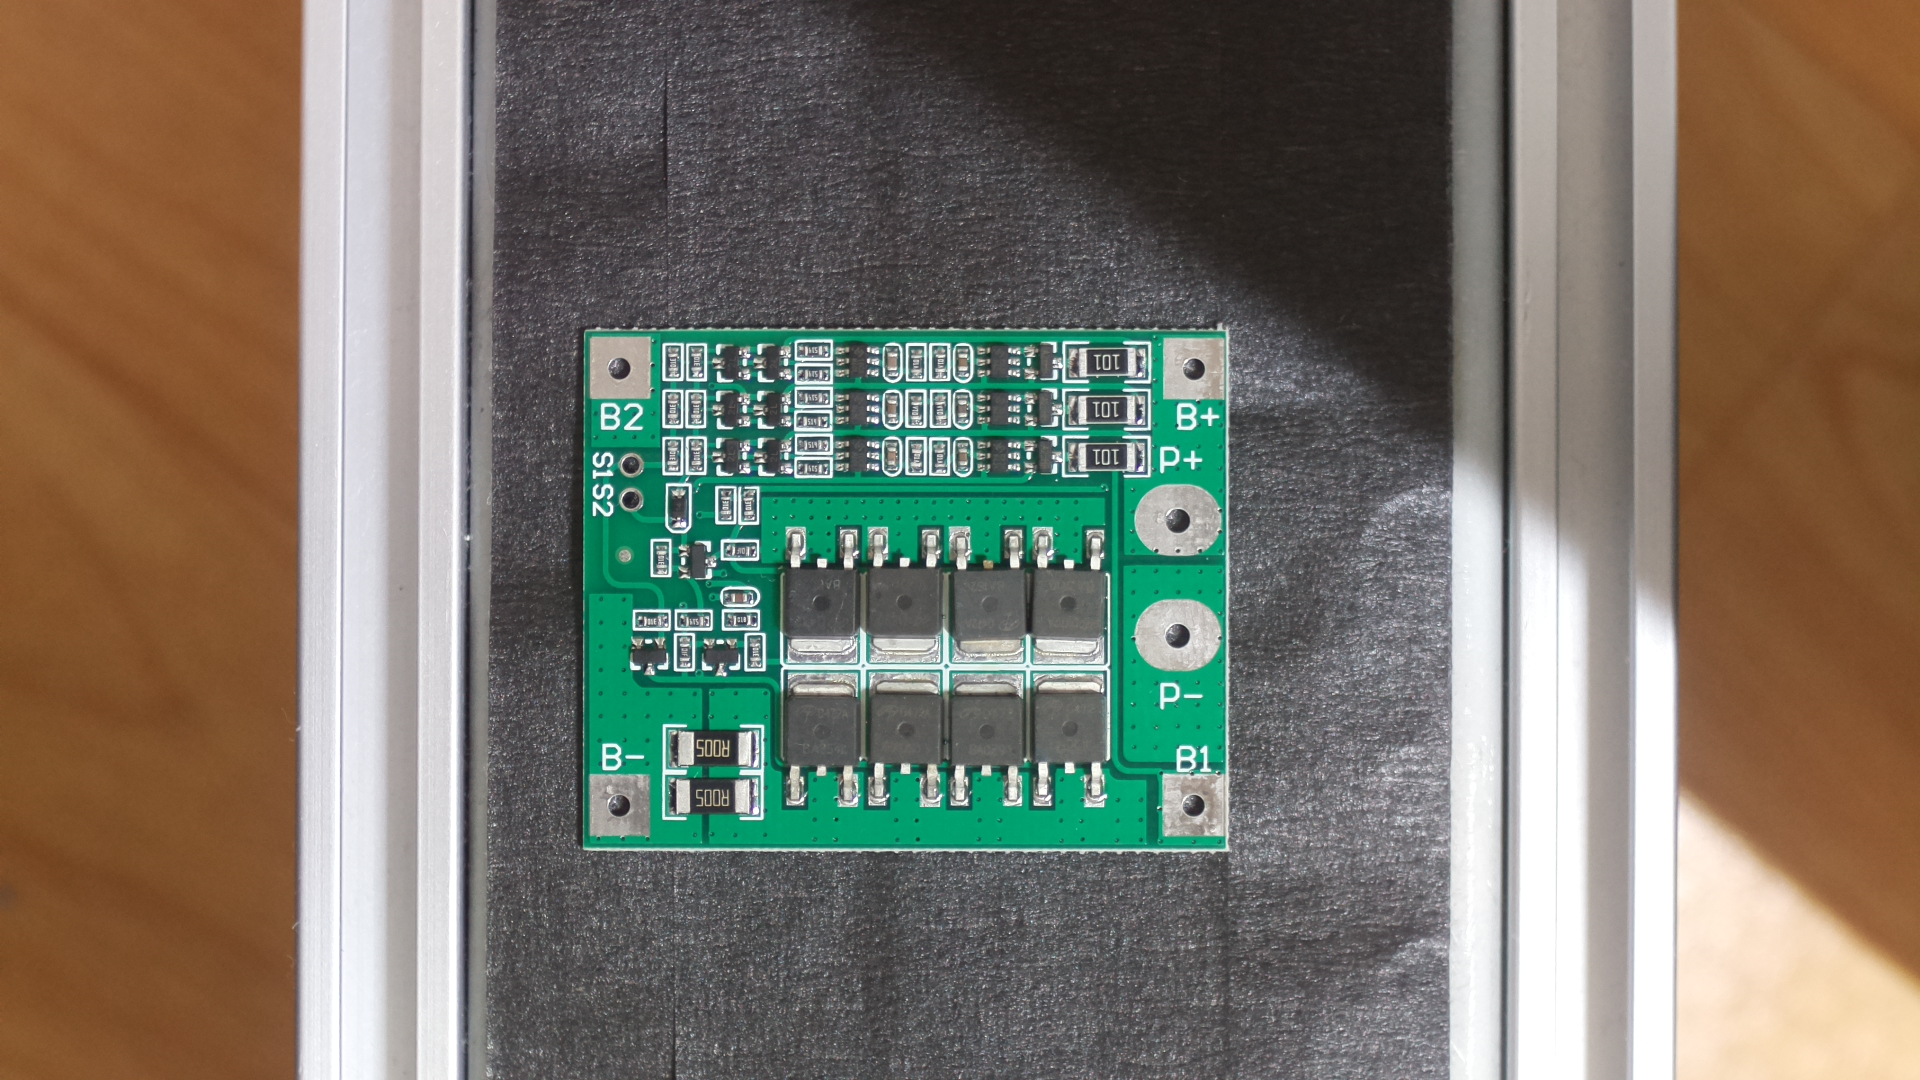C_Normal: (570, 303, 1246, 874)
